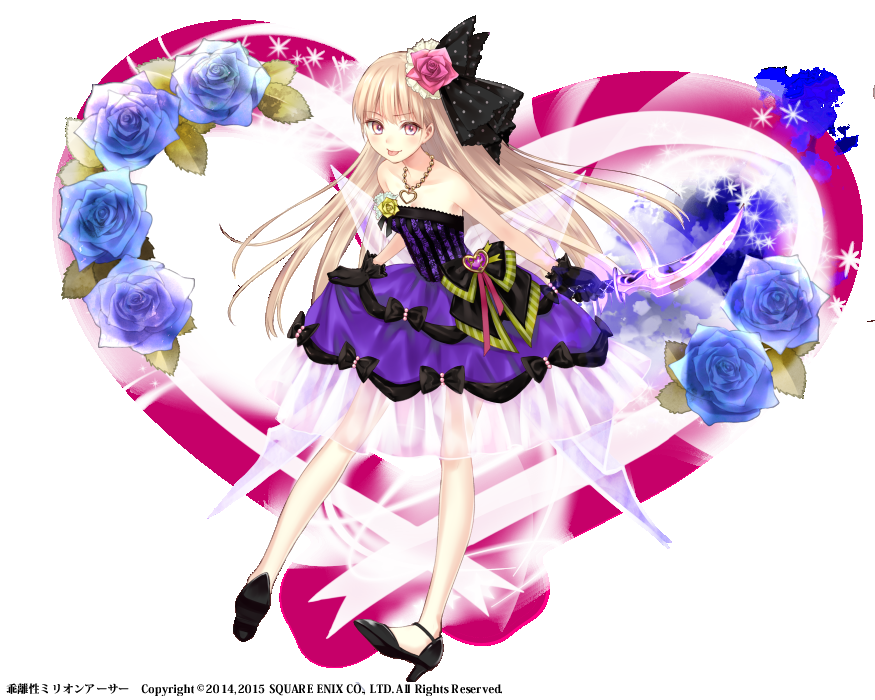纸片人正脸: (350, 46, 452, 166)
